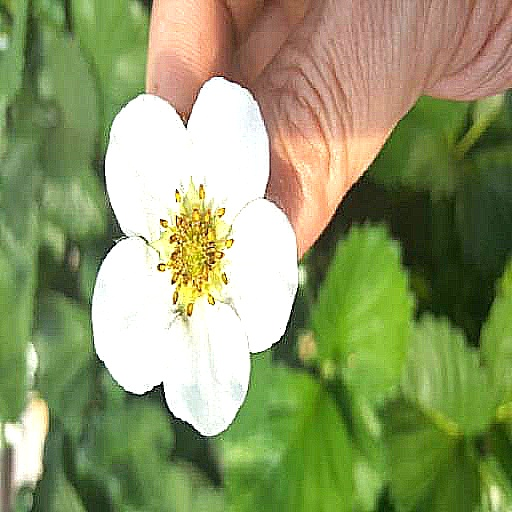Blossom Blight: (149, 173, 238, 318)
